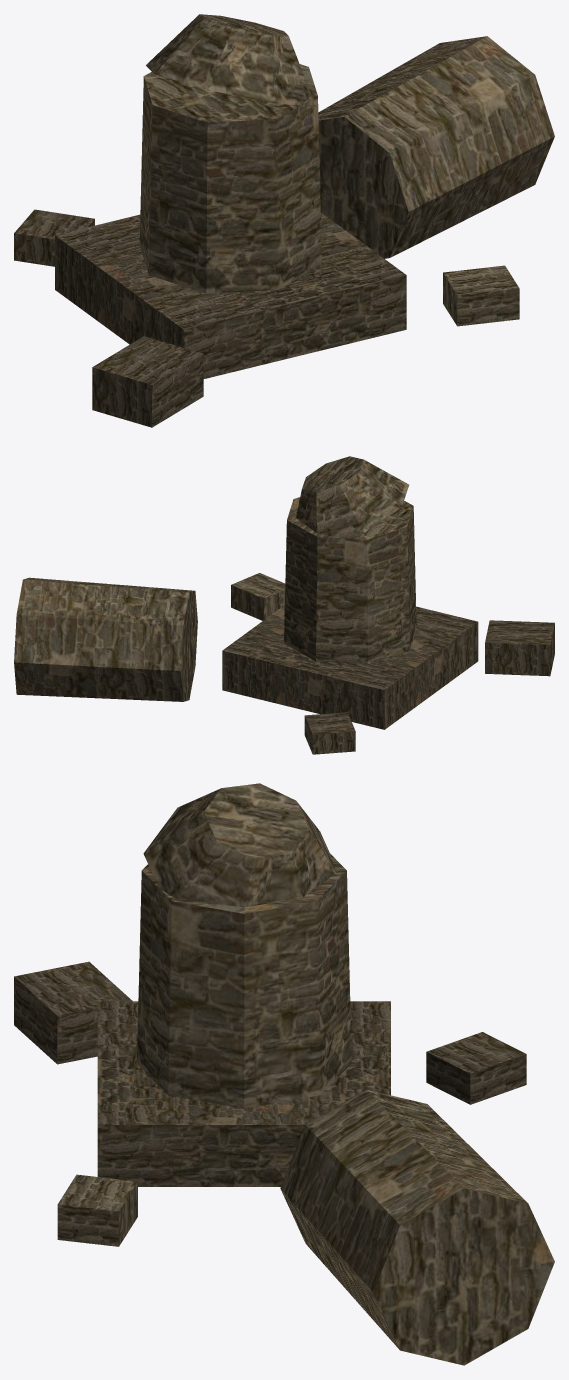
Rendered from rubble_pillar_01.glb.
3 views of the same model, one above another, from view 1: azimuth 30°, elevation 25°; view 2: azimuth 150°, elevation 25°; view 3: azimuth 270°, elevation 25° (orthographic). The views are drawn at different scales.
Parts seen in each view (by area): view 1: rubble_pillar_01; view 2: rubble_pillar_01; view 3: rubble_pillar_01.
Part boxes in pixels (bbox=[...]): rubble_pillar_01: bbox=[14, 14, 554, 427]; rubble_pillar_01: bbox=[14, 456, 554, 754]; rubble_pillar_01: bbox=[14, 783, 554, 1365].
Bounding box in the file's own units: 3.16 × 1.7 × 2.21.
Materials: 2 (2 with a texture image).
